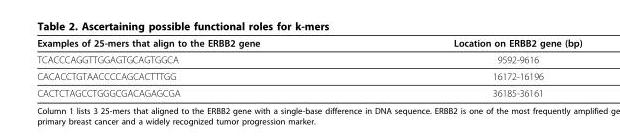table: (36, 36, 581, 98)
table column: (36, 36, 356, 98), (356, 36, 581, 98)
table column header: (36, 36, 581, 50)
table row: (36, 50, 581, 67), (36, 67, 581, 84), (36, 36, 581, 50), (36, 84, 581, 98)
